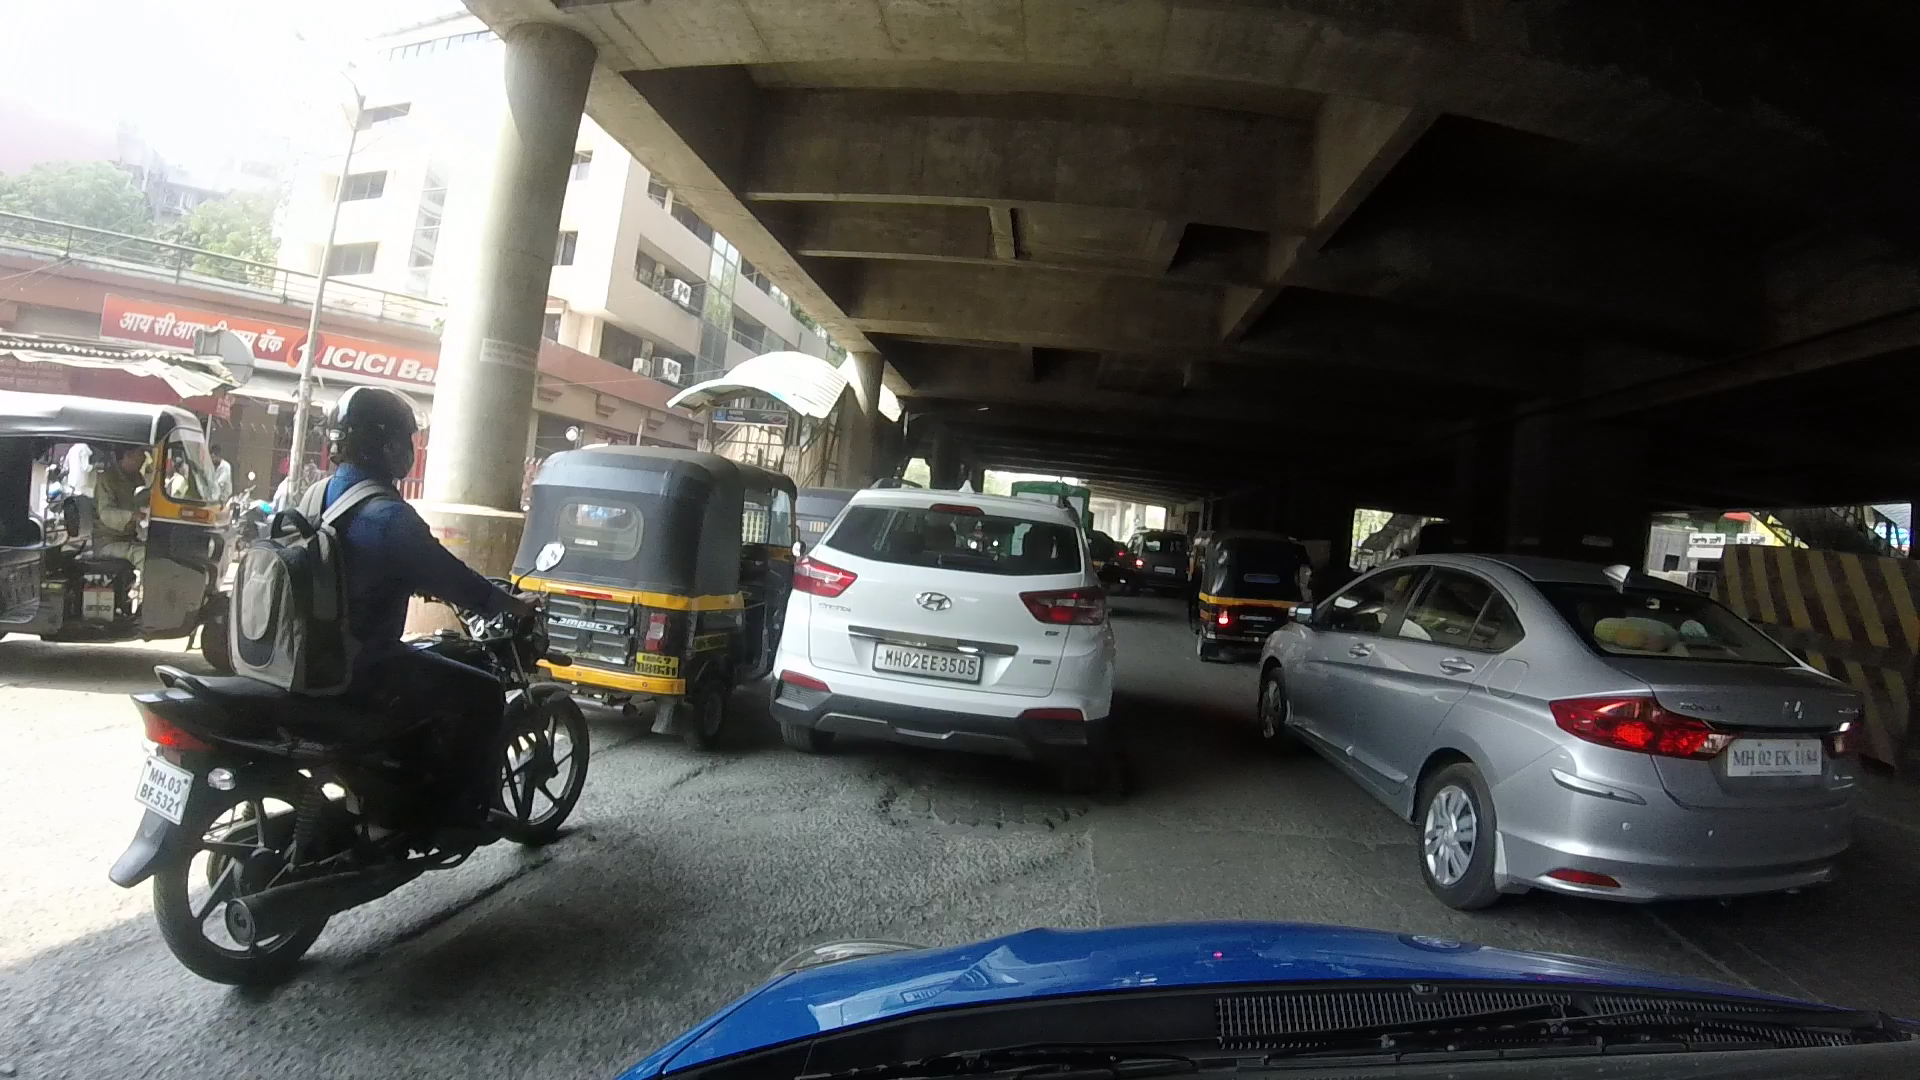bike/scooter: (136, 382, 630, 1007)
car: (1265, 543, 1865, 938), (765, 454, 1151, 778)
rickshaw: (501, 386, 812, 745), (4, 396, 227, 704), (1180, 520, 1352, 663)
